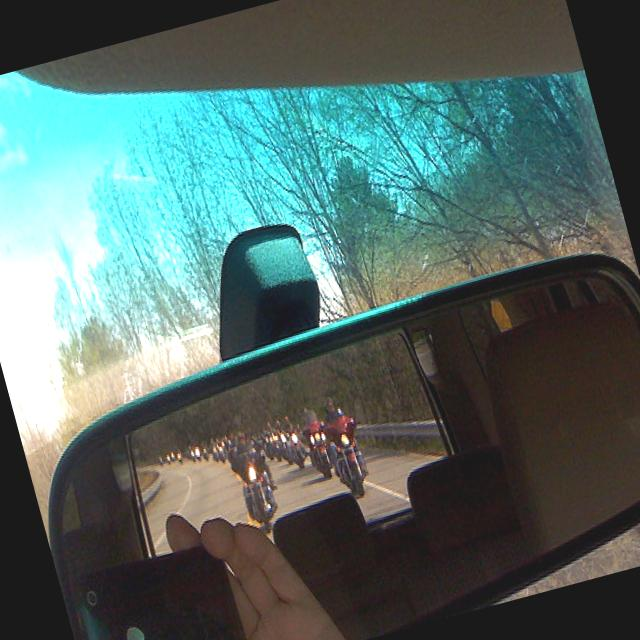Vehicle: (325, 419, 377, 498), (235, 458, 283, 534), (298, 410, 336, 483), (226, 440, 268, 480), (286, 427, 309, 471), (264, 432, 286, 466), (278, 434, 294, 466), (216, 444, 226, 464), (210, 444, 220, 464), (202, 446, 210, 462), (176, 452, 183, 463)
